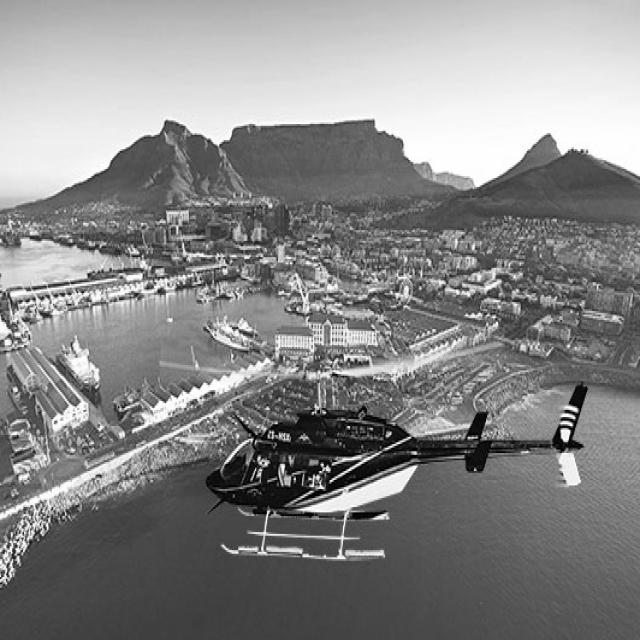helicopter: (207, 353, 597, 580)
